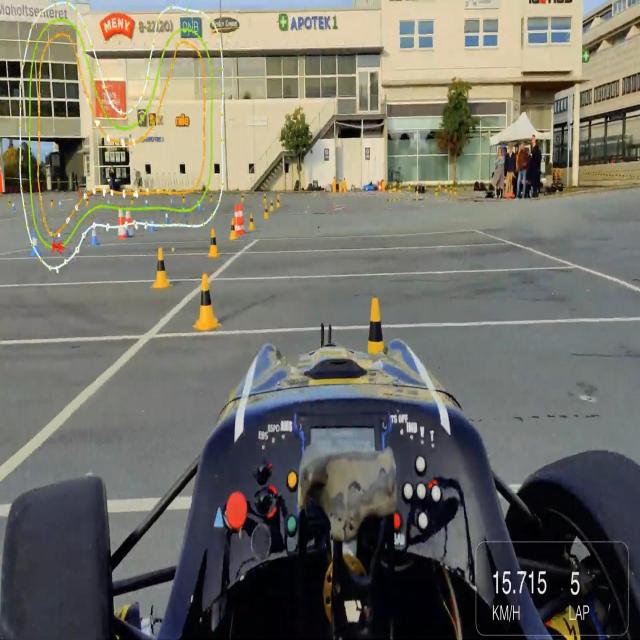blue_cone: (30, 232, 40, 258), (91, 225, 98, 246), (163, 211, 170, 229), (150, 215, 155, 232)
large_orange_cone: (116, 208, 126, 239), (124, 204, 133, 238), (238, 203, 246, 233), (235, 202, 240, 234)
yellow_cone: (194, 272, 220, 332), (366, 292, 385, 354), (150, 247, 172, 289), (208, 229, 218, 259), (228, 217, 236, 241), (249, 212, 255, 232), (240, 191, 246, 205), (269, 197, 274, 213), (264, 203, 268, 220), (276, 195, 280, 210), (263, 192, 267, 204), (182, 193, 186, 205), (210, 190, 213, 204)
